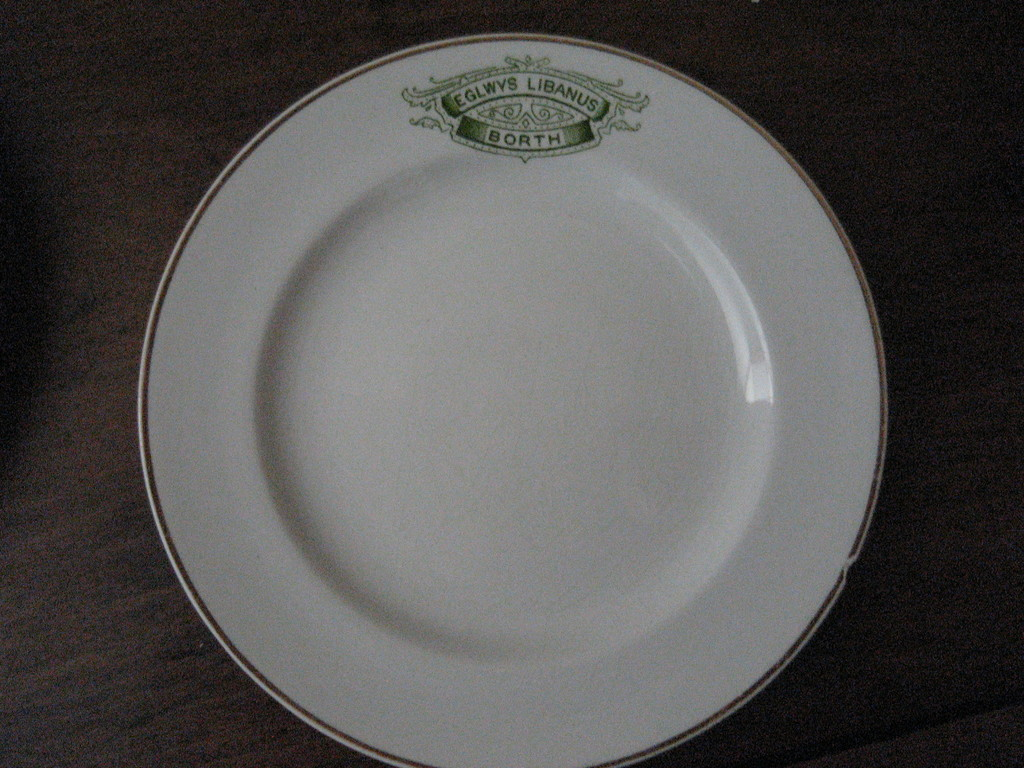plate: (136, 32, 890, 767)
